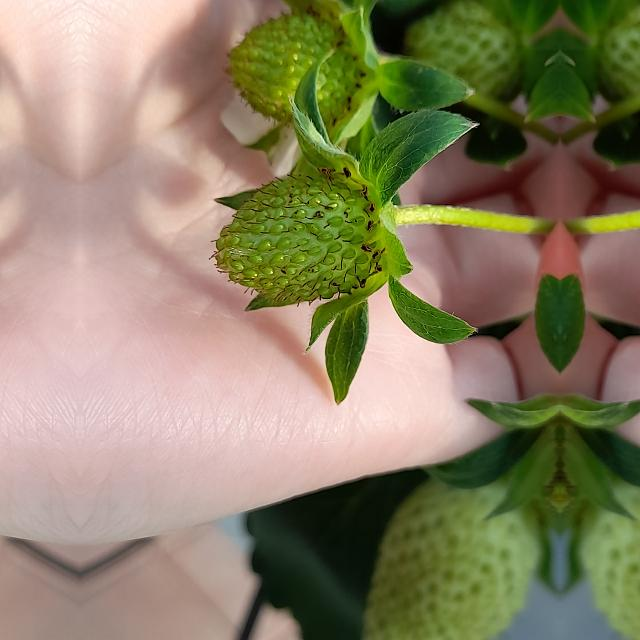Health_25: (208, 175, 380, 307)
